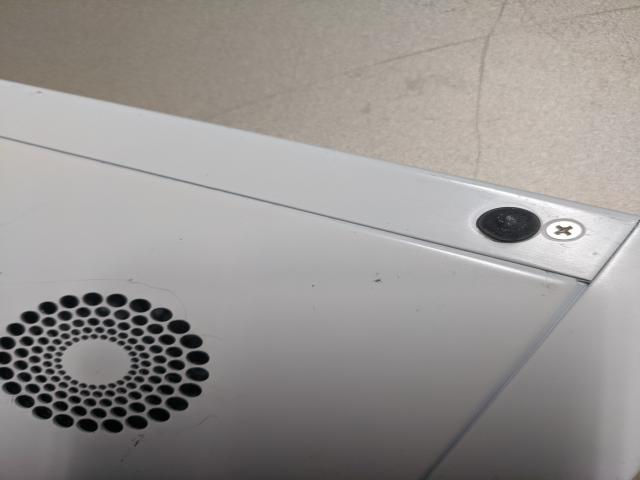CRS: (545, 219, 584, 240)
